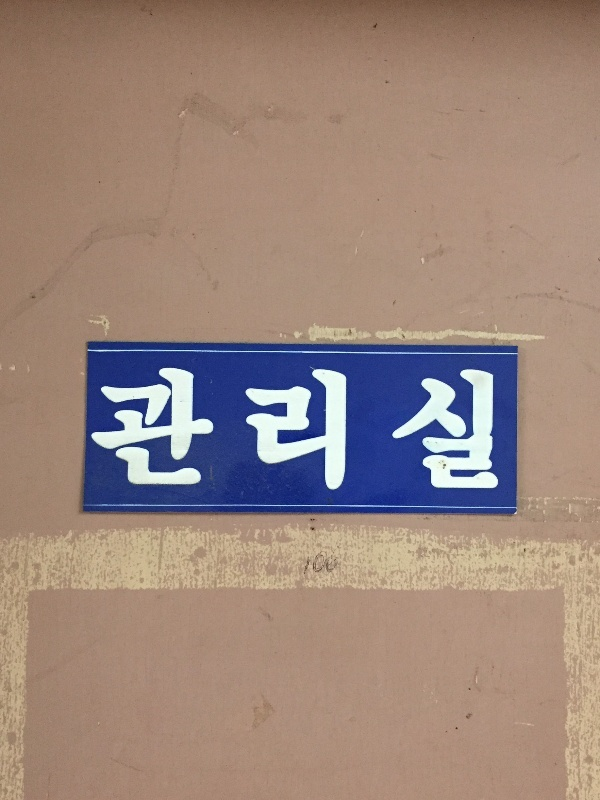text: (97, 367, 112, 495), (113, 367, 128, 495), (129, 367, 144, 495), (145, 367, 160, 495), (161, 367, 176, 495), (177, 367, 192, 495), (193, 367, 208, 495), (209, 367, 224, 495), (225, 367, 240, 495), (241, 367, 256, 495), (257, 367, 272, 495), (273, 367, 288, 495), (289, 367, 304, 495), (305, 367, 320, 495), (321, 367, 336, 495), (337, 367, 352, 495), (353, 367, 368, 495), (369, 367, 384, 495), (385, 367, 400, 495), (401, 367, 416, 495), (417, 367, 432, 495), (433, 367, 448, 495), (449, 367, 464, 495), (465, 367, 480, 495), (481, 367, 496, 495), (93, 367, 96, 495), (497, 367, 500, 495)
